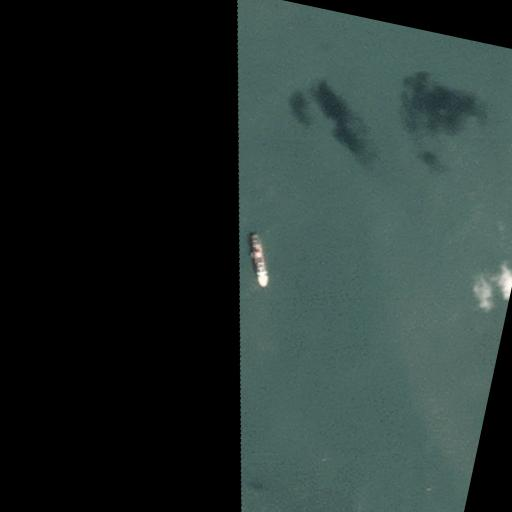ship: (236, 227, 276, 285), (461, 271, 500, 320), (486, 259, 512, 300)
